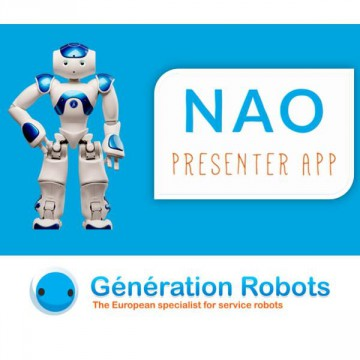nao: (7, 33, 142, 239)
